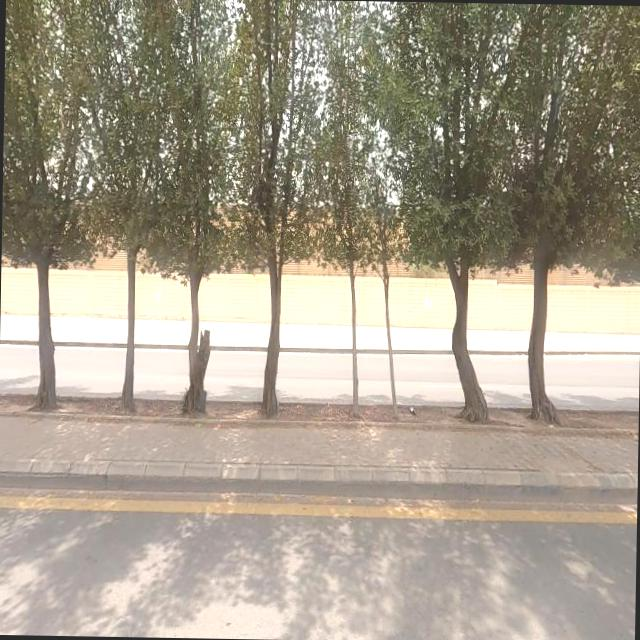debris: (396, 390, 431, 432)
